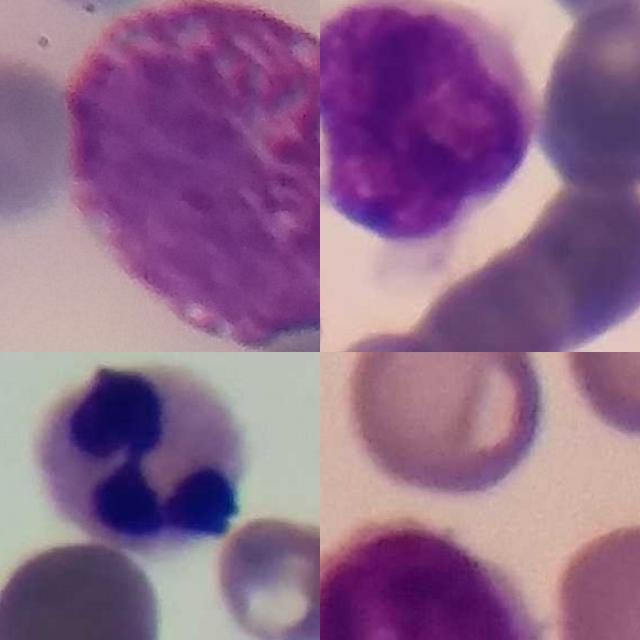Basophil: (60, 1, 320, 344)
Lymphocyte: (320, 0, 539, 250), (320, 517, 540, 640)
Neutrophil: (29, 356, 247, 559)
